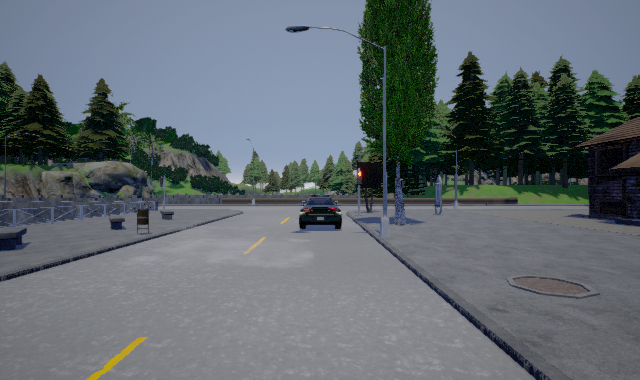traffic_light: (357, 170, 362, 186)
vehicle: (299, 195, 342, 229)
